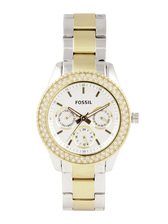watch: (32, 11, 141, 214)
